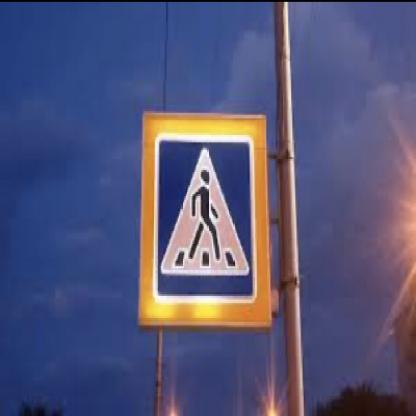crosswalk: (152, 135, 253, 299)
